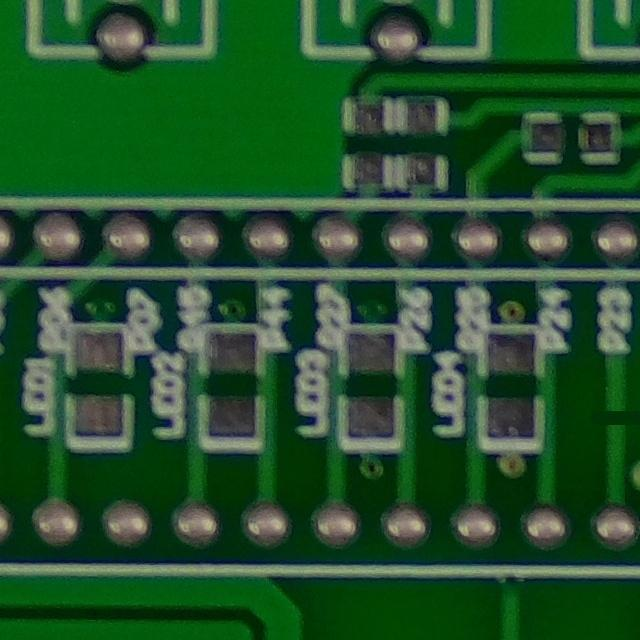open_circuit: (591, 396, 640, 437)
